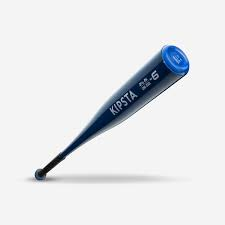baseball bat: (31, 43, 191, 181)
